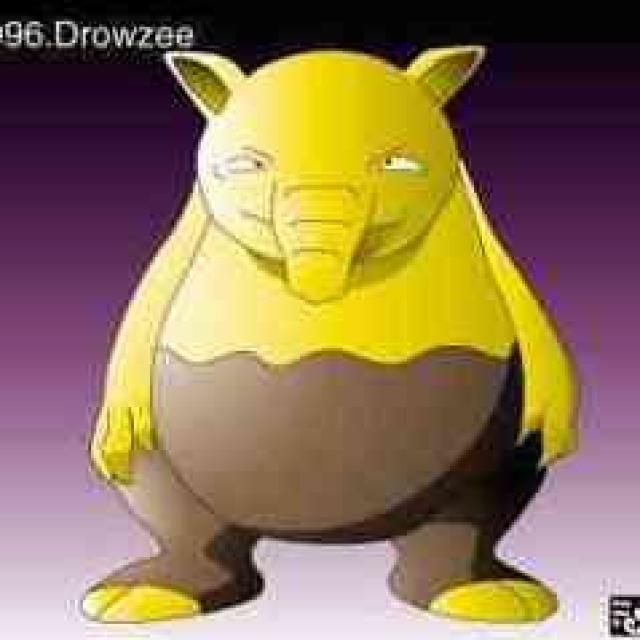Drowzee: (85, 44, 582, 560)
